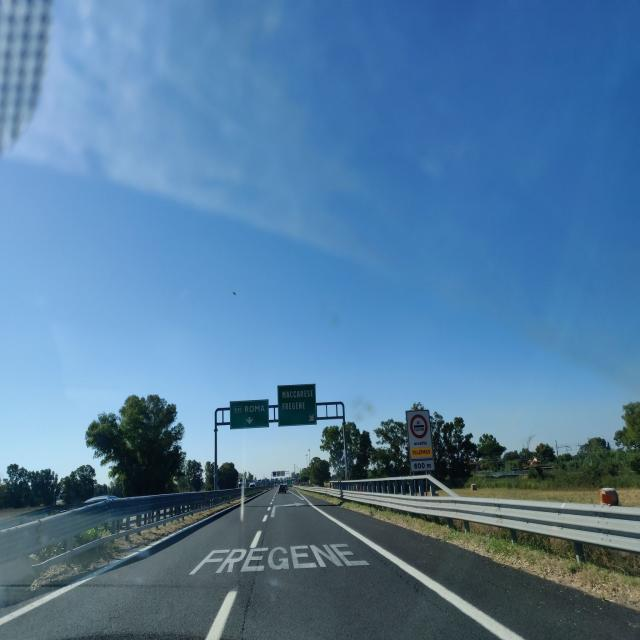car: (80, 494, 117, 508), (278, 483, 288, 493)
